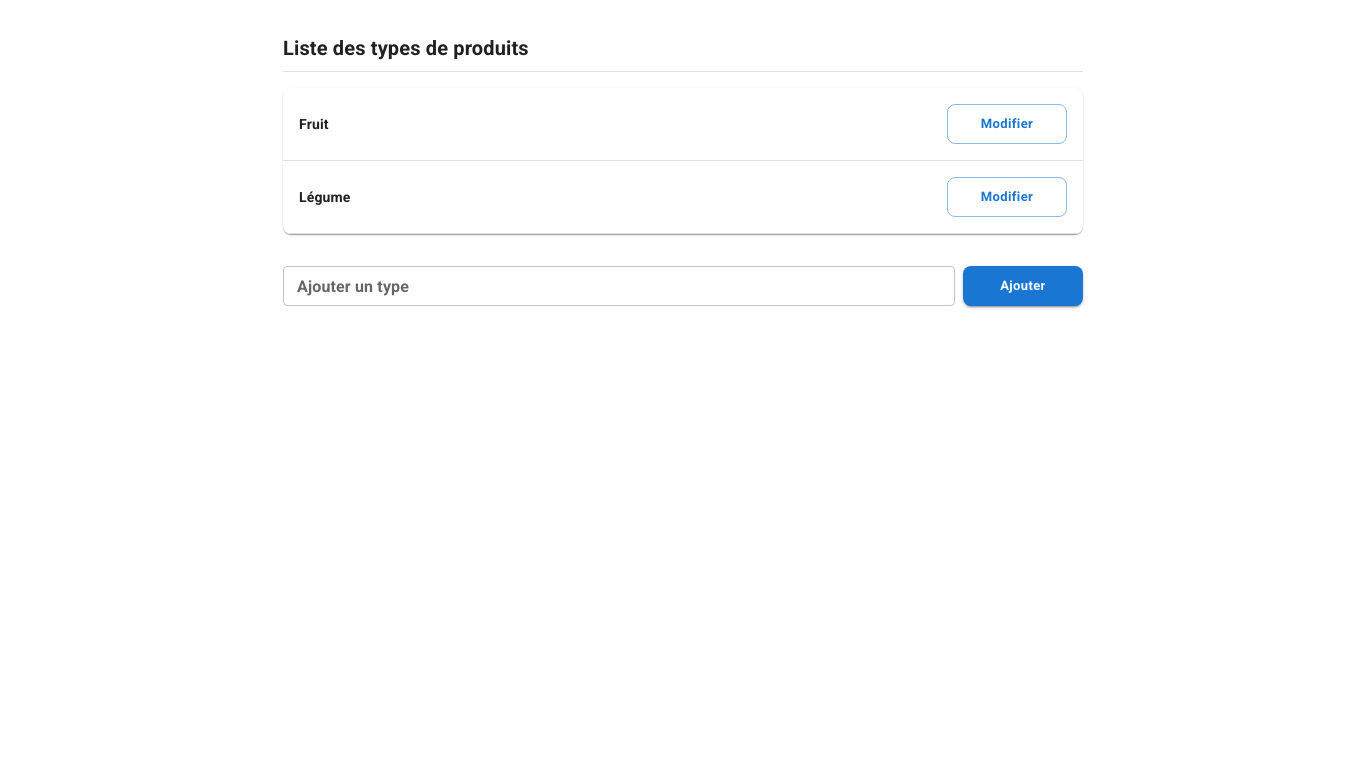
Scenario: ProductTypeListPage › should pre-fill the edit dialog with the correct label
Click the button "Modifier" in the row of "Légume": [1007, 197] box [947,177,1067,217]
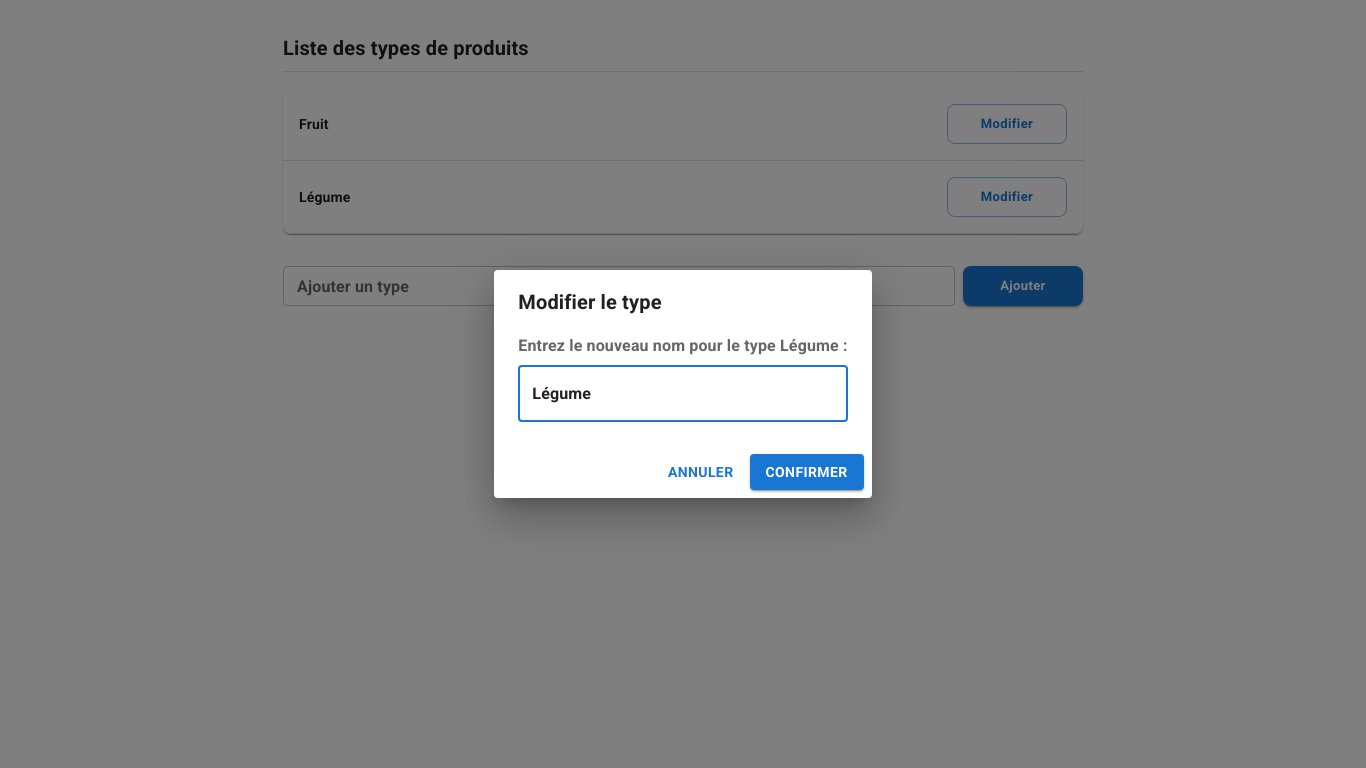
Expected: the field showing "Légume" is shown, [518,366,848,422]
